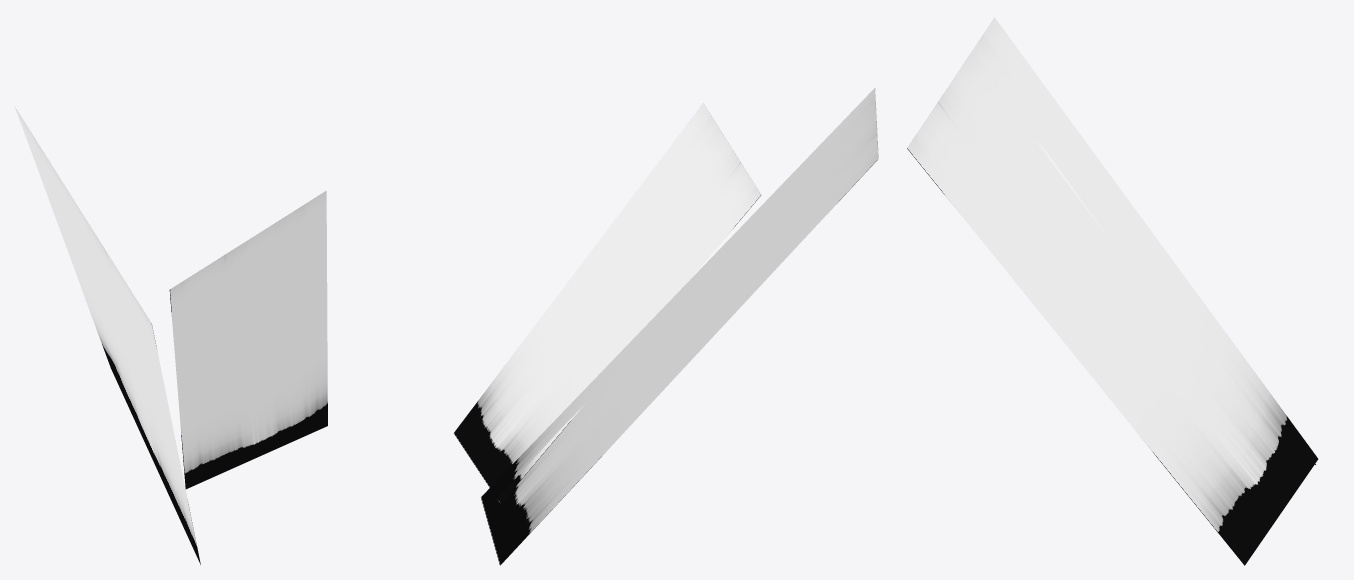
The model's file is LightShaftVertical.glb.
3 views of the same model, side by side, from view 1: azimuth 30°, elevation 25°; view 2: azimuth 150°, elevation 25°; view 3: azimuth 270°, elevation 25° (orthographic). The views are drawn at different scales.
Visible parts, largest first — view 1: Plane.001; view 2: Plane.001; view 3: Plane.001.
Boxes of the visible parts, <box> form: Plane.001: <box>14,106,327,564</box>; Plane.001: <box>453,88,878,565</box>; Plane.001: <box>907,17,1318,565</box>.
Size of the model in its own units: 5.69 by 7.76 by 6.44.
1 material, 1 textured.
